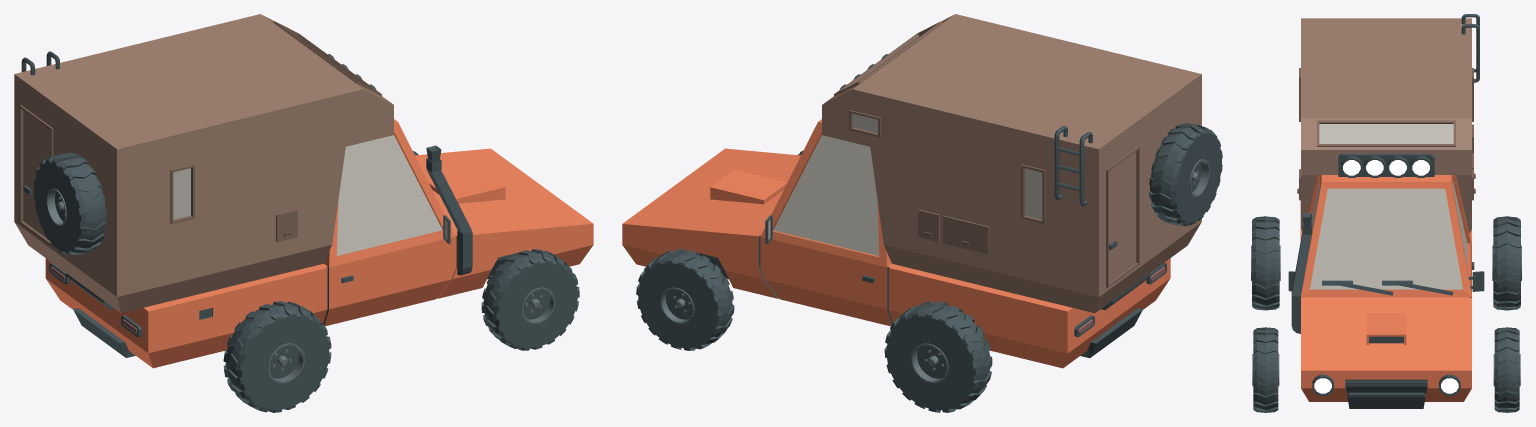
Rendered from low-poly_truck_car_drifter2.glb.
3 renders of one model, left to right at view 1: azimuth 30°, elevation 25°; view 2: azimuth 150°, elevation 25°; view 3: azimuth 270°, elevation 25°, orthographic. The views are drawn at different scales.
Parts seen in each view (by area): view 1: Frame, Rear_wheel.001, Front_wheel.001; view 2: Frame, Rear_wheel, Front_wheel; view 3: Frame, Rear_wheel.001, Rear_wheel, Front_wheel.001, Front_wheel.
Part boxes in pixels (x1,y1,x2,y2): Frame: (14, 14, 593, 368); Rear_wheel.001: (223, 301, 331, 412); Front_wheel.001: (481, 249, 579, 350); Frame: (622, 14, 1222, 368); Rear_wheel: (884, 301, 992, 412); Front_wheel: (636, 249, 734, 350); Frame: (1288, 14, 1484, 408); Rear_wheel.001: (1251, 216, 1280, 310); Rear_wheel: (1492, 216, 1521, 310); Front_wheel.001: (1252, 327, 1279, 412); Front_wheel: (1493, 327, 1520, 412).
Size of what is drawn, in the model's own units: 3.77 by 2.04 by 2.08.
